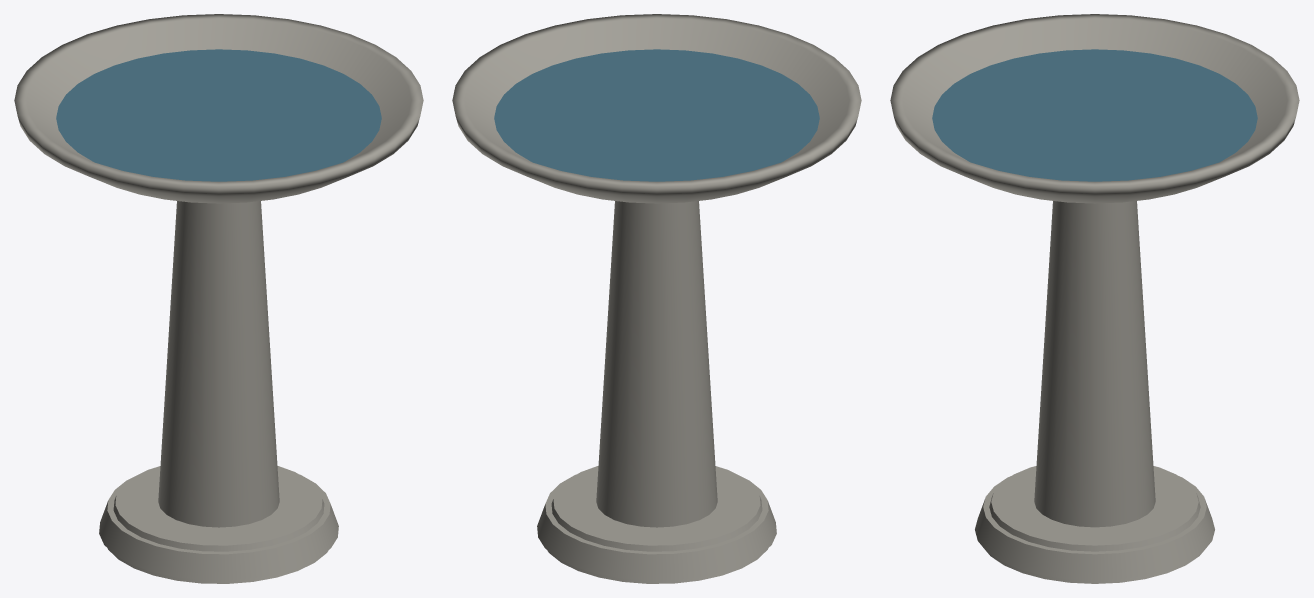
The model's file is bird_bath.glb.
The picture shows the model from 3 angles, left to right: view 1: azimuth 30°, elevation 25°; view 2: azimuth 150°, elevation 25°; view 3: azimuth 270°, elevation 25°; orthographic projection.
Parts seen in each view (by area): view 1: Body, Water; view 2: Body, Water; view 3: Body, Water.
Boxes of the visible parts, left/top/right/bottom form: Body: left=14, top=14, right=423, bottom=583; Water: left=56, top=49, right=381, bottom=181; Body: left=452, top=14, right=861, bottom=583; Water: left=494, top=49, right=819, bottom=181; Body: left=890, top=14, right=1299, bottom=583; Water: left=932, top=49, right=1257, bottom=181.
Size of the model in its own units: 0.67 by 0.785 by 0.67.
